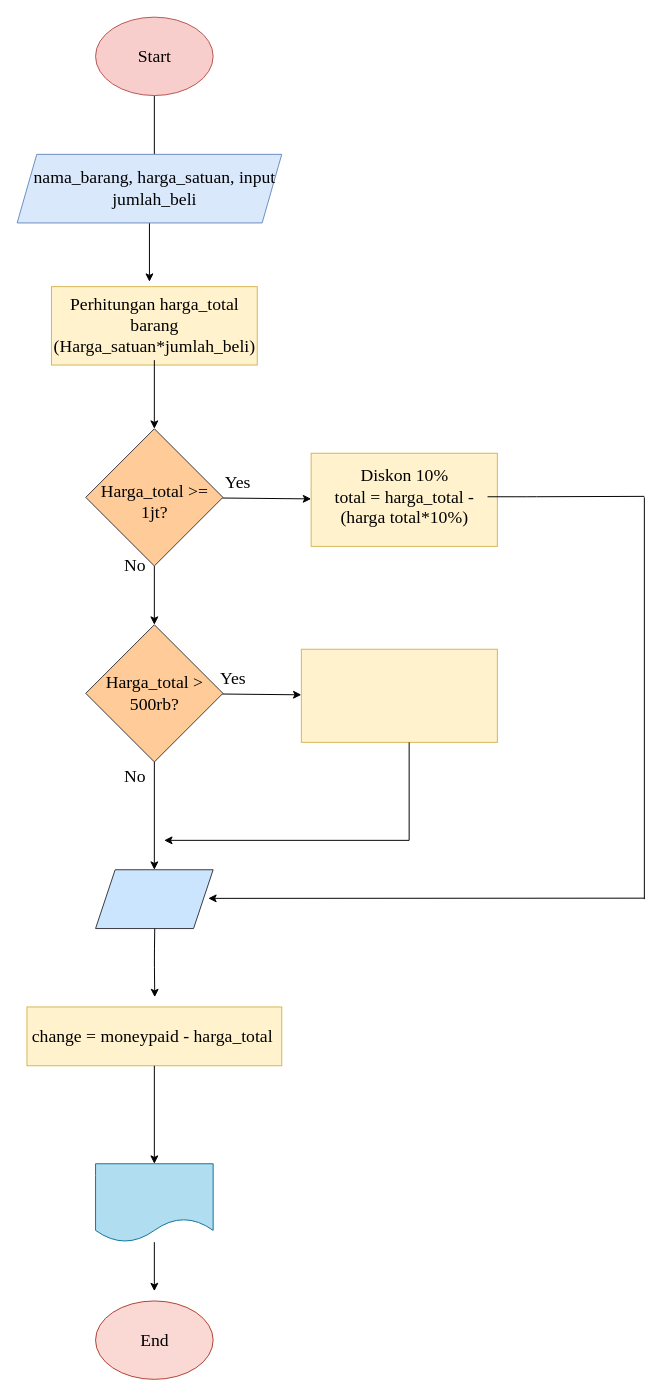
Image size: 669x1397. Some labels were removed from this diagram. The centre of each missing label's shape, as x and y in pixels:
"Diskon 5% total = harga_total - (harga total*5%)" goes at point 398,695.
"moneypaid" goes at point 154,899.
"Recipt" goes at point 154,1202.
